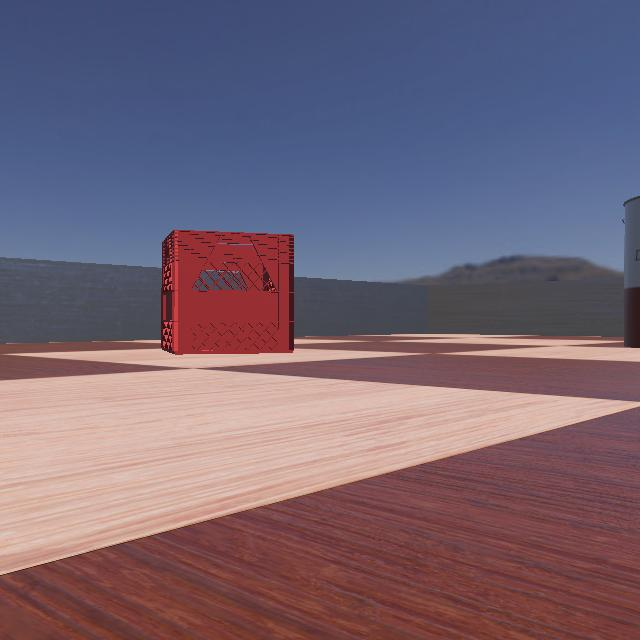paint-bucket: (580, 182, 640, 352), (580, 182, 640, 352)
plastic-crate: (134, 230, 298, 354)
